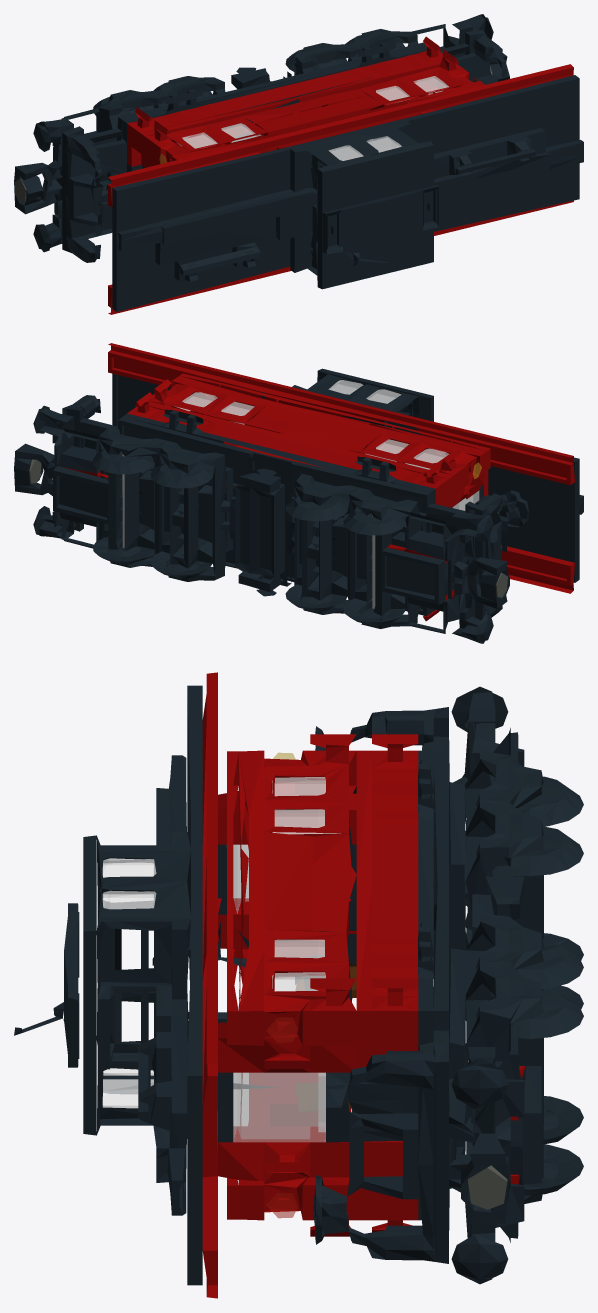
Rendered from caboose.glb.
The picture shows the model from 3 angles, top to bottom: view 1: azimuth 30°, elevation 25°; view 2: azimuth 150°, elevation 25°; view 3: azimuth 270°, elevation 25°; orthographic projection. The views are drawn at different scales.
Bounding box in the file's own units: 200 × 59.8 × 118.
